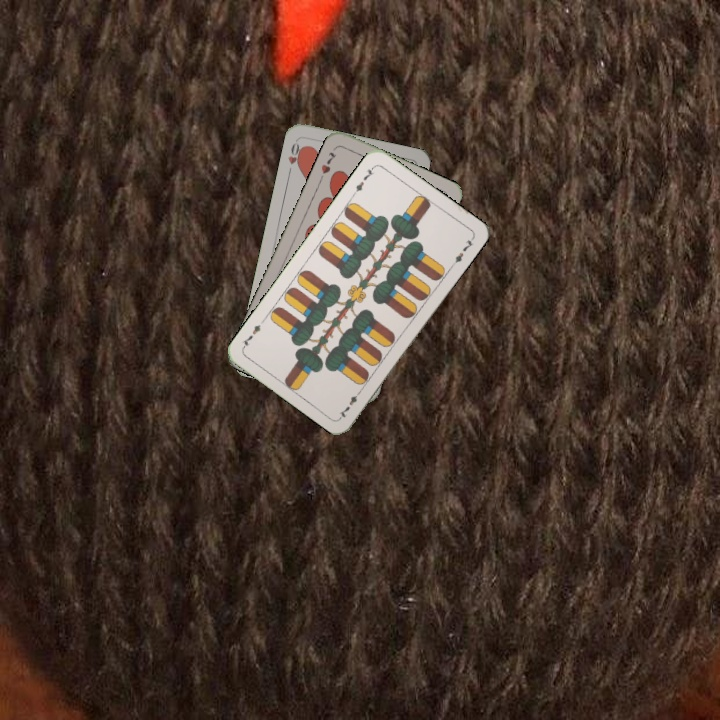E7: (335, 385, 365, 420), (349, 162, 378, 197)
H7: (316, 148, 339, 183)
HO: (284, 137, 306, 177)
